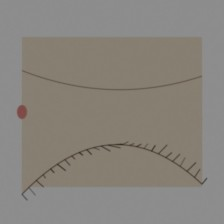pinguecula_lesion: (143, 100, 189, 137)
